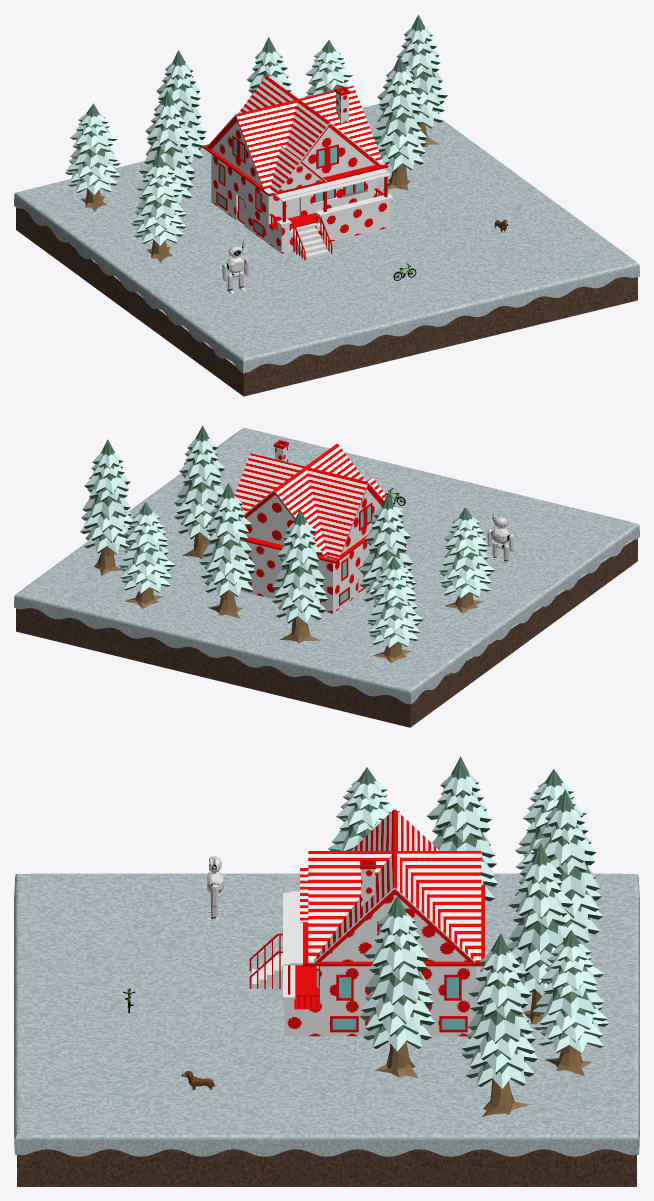
3 views of the same model, one above another, from view 1: azimuth 30°, elevation 25°; view 2: azimuth 150°, elevation 25°; view 3: azimuth 270°, elevation 25° (orthographic). The views are drawn at different scales.
Visible parts, largest first — view 1: Cube.003, Cube.196, OBJRANDOM_PLATZEEBOT; view 2: Cube.003, Cube.196, OBJRANDOM_PLATZEEBOT; view 3: Cube.003, Cube.196, OBJRANDOM_PLATZEEBOT.
Part boxes in pixels (<box>): Cube.003: <box>14,14,639,396</box>; Cube.196: <box>202,76,393,260</box>; OBJRANDOM_PLATZEEBOT: <box>222,241,248,293</box>; Cube.003: <box>14,425,639,727</box>; Cube.196: <box>234,440,405,613</box>; OBJRANDOM_PLATZEEBOT: <box>487,512,513,563</box>; Cube.003: <box>14,756,639,1186</box>; Cube.196: <box>249,809,484,1036</box>; OBJRANDOM_PLATZEEBOT: <box>205,856,224,920</box>.
Size of the model in its own units: 4040 by 1670 by 4040.
29 materials, 4 textured.
